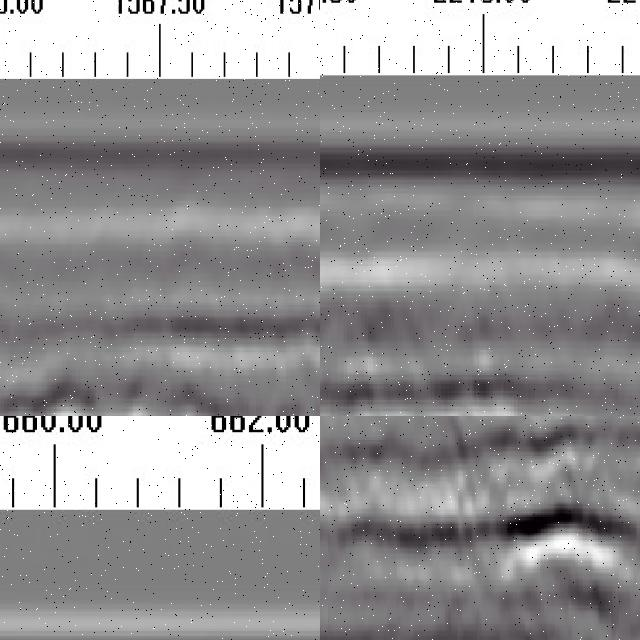loose: (334, 432, 640, 596), (327, 348, 544, 417), (1, 381, 234, 417)
